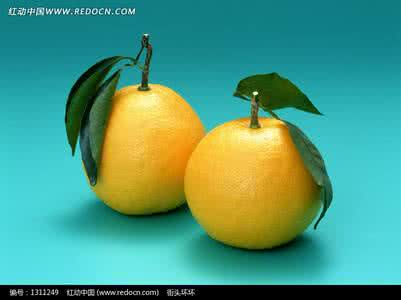orange: (188, 96, 321, 247), (71, 64, 194, 218)
